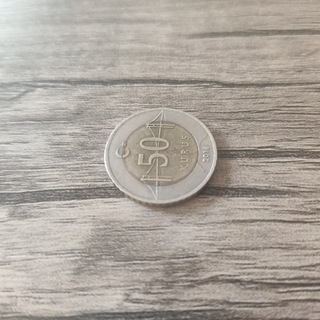50KURUS: (102, 105, 219, 209)
